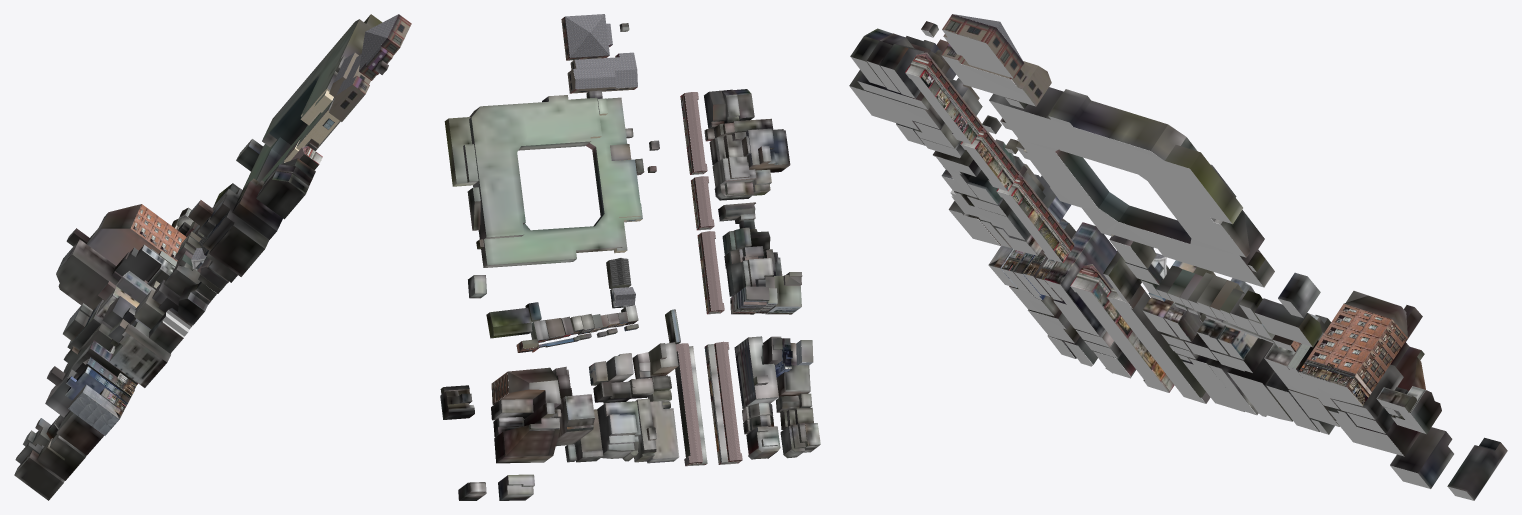
The picture shows the model from 3 angles, left to right: view 1: azimuth 30°, elevation 25°; view 2: azimuth 150°, elevation 25°; view 3: azimuth 270°, elevation 25°; orthographic projection. The views are drawn at different scales.
Bounding box in the file's own units: 129 × 130 × 148.
39 materials, 37 textured.
